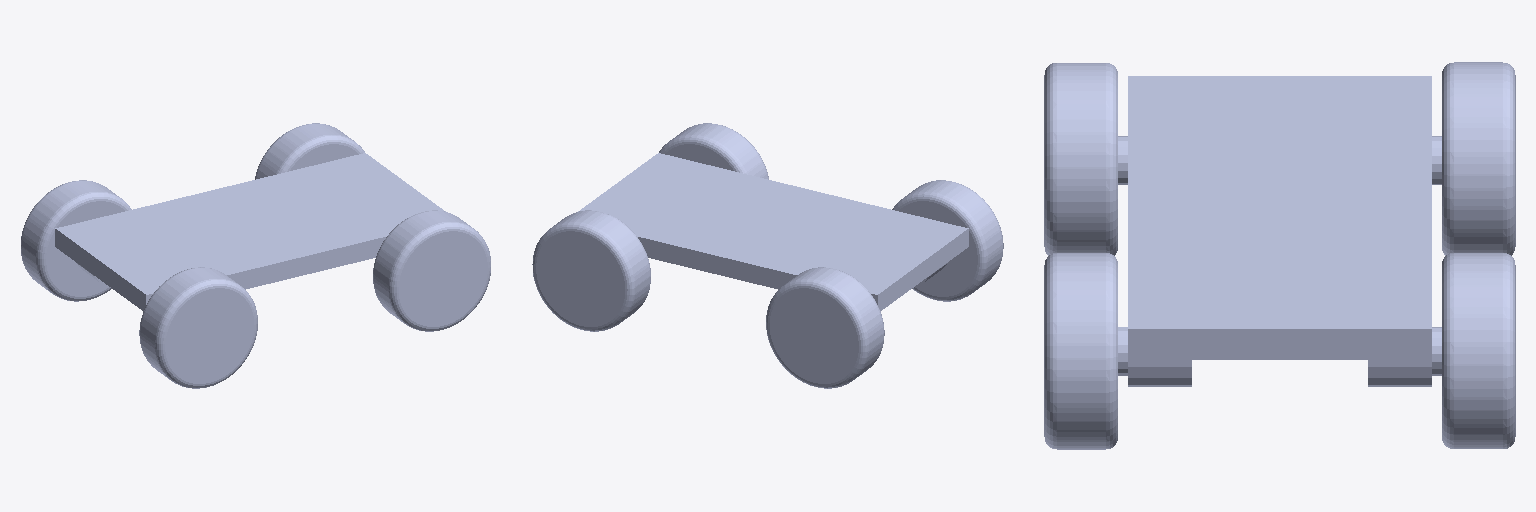
The robot description file, URDF, robot "urdfbotrail2":
<?xml version="1.0" encoding="utf-8"?>
<!-- This URDF was automatically created by SolidWorks to URDF Exporter! Originally created by [author] ([email redacted]) 
     Commit Version: 1.6.0-1-g15f4949  Build Version: 1.6.7594.29634
     For more information, please see http://wiki.ros.org/sw_urdf_exporter -->
<robot
  name="urdfbotrail2">
  <link
    name="chassis">
    <inertial>
      <origin
        xyz="0 -5.20417042793042E-18 -0.00417208943994848"
        rpy="0 0 0" />
      <mass
        value="0.0562300182158082" />
      <inertia
        ixx="1.95794362257048E-05"
        ixy="-5.16987882845642E-21"
        ixz="8.56024269347007E-22"
        iyy="7.30834374312507E-05"
        iyz="-5.43225256246523E-22"
        izz="9.14128498637348E-05" />
    </inertial>
    <visual>
      <origin
        xyz="0 0 0"
        rpy="0 0 0" />
      <geometry>
        <mesh
          filename="package://urdfbotrail2/meshes/chassis.STL" />
      </geometry>
      <material
        name="">
        <color
          rgba="0.792156862745098 0.819607843137255 0.933333333333333 1" />
      </material>
    </visual>
    <collision>
      <origin
        xyz="0 0 0"
        rpy="0 0 0" />
      <geometry>
        <mesh
          filename="package://urdfbotrail2/meshes/chassis.STL" />
      </geometry>
    </collision>
  </link>
  <link
    name="wheel1">
    <inertial>
      <origin
        xyz="3.4694E-18 -0.0073381 -3.4694E-18"
        rpy="0 0 0" />
      <mass
        value="0.0197" />
      <inertia
        ixx="2.4392E-06"
        ixy="3.6561E-23"
        ixz="2.8034E-39"
        iyy="3.6606E-06"
        iyz="3.5573E-39"
        izz="2.4392E-06" />
    </inertial>
    <visual>
      <origin
        xyz="0 0 0"
        rpy="0 0 0" />
      <geometry>
        <mesh
          filename="package://urdfbotrail2/meshes/wheel1.STL" />
      </geometry>
      <material
        name="">
        <color
          rgba="0.79216 0.81961 0.93333 1" />
      </material>
    </visual>
    <collision>
      <origin
        xyz="0 0 0"
        rpy="0 0 0" />
      <geometry>
        <mesh
          filename="package://urdfbotrail2/meshes/wheel1.STL" />
      </geometry>
    </collision>
  </link>
  <joint
    name="joint1"
    type="continuous">
    <origin
      xyz="-0.045742 -0.032132 -0.012"
      rpy="0 0 0" />
    <parent
      link="chassis" />
    <child
      link="wheel1" />
    <axis
      xyz="0 1 0" />
    <limit
      lower="0"
      upper="0"
      effort="0"
      velocity="0" />
  </joint>
  <link
    name="wheel2">
    <inertial>
      <origin
        xyz="1.3878E-17 -0.0073381 -3.4694E-18"
        rpy="0 0 0" />
      <mass
        value="0.0197" />
      <inertia
        ixx="2.4392E-06"
        ixy="2.5033E-23"
        ixz="2.8034E-39"
        iyy="3.6606E-06"
        iyz="3.5573E-39"
        izz="2.4392E-06" />
    </inertial>
    <visual>
      <origin
        xyz="0 0 0"
        rpy="0 0 0" />
      <geometry>
        <mesh
          filename="package://urdfbotrail2/meshes/wheel2.STL" />
      </geometry>
      <material
        name="">
        <color
          rgba="0.79216 0.81961 0.93333 1" />
      </material>
    </visual>
    <collision>
      <origin
        xyz="0 0 0"
        rpy="0 0 0" />
      <geometry>
        <mesh
          filename="package://urdfbotrail2/meshes/wheel2.STL" />
      </geometry>
    </collision>
  </link>
  <joint
    name="joint2"
    type="continuous">
    <origin
      xyz="0.045742 -0.032132 -0.012"
      rpy="0 0 0" />
    <parent
      link="chassis" />
    <child
      link="wheel2" />
    <axis
      xyz="0 1 0" />
    <limit
      lower="0"
      upper="0"
      effort="0"
      velocity="0" />
  </joint>
  <link
    name="wheel3">
    <inertial>
      <origin
        xyz="2.7756E-17 0.0073381 -1.0408E-17"
        rpy="0 0 0" />
      <mass
        value="0.0197" />
      <inertia
        ixx="2.4392E-06"
        ixy="6.4748E-24"
        ixz="1.7485E-22"
        iyy="3.6606E-06"
        iyz="-4.7383E-23"
        izz="2.4392E-06" />
    </inertial>
    <visual>
      <origin
        xyz="0 0 0"
        rpy="0 0 0" />
      <geometry>
        <mesh
          filename="package://urdfbotrail2/meshes/wheel3.STL" />
      </geometry>
      <material
        name="">
        <color
          rgba="0.79216 0.81961 0.93333 1" />
      </material>
    </visual>
    <collision>
      <origin
        xyz="0 0 0"
        rpy="0 0 0" />
      <geometry>
        <mesh
          filename="package://urdfbotrail2/meshes/wheel3.STL" />
      </geometry>
    </collision>
  </link>
  <joint
    name="joint3"
    type="continuous">
    <origin
      xyz="0.045742 0.032132 -0.012"
      rpy="0 0 0" />
    <parent
      link="chassis" />
    <child
      link="wheel3" />
    <axis
      xyz="0 1 0" />
    <limit
      lower="0"
      upper="0"
      effort="0"
      velocity="0" />
  </joint>
  <link
    name="wheel4">
    <inertial>
      <origin
        xyz="0 0.021603 -3.4694E-18"
        rpy="0 0 0" />
      <mass
        value="0.0197" />
      <inertia
        ixx="2.4392E-06"
        ixy="9.7954E-23"
        ixz="1.7164E-23"
        iyy="3.6606E-06"
        iyz="-2.5217E-23"
        izz="2.4392E-06" />
    </inertial>
    <visual>
      <origin
        xyz="0 0 0"
        rpy="0 0 0" />
      <geometry>
        <mesh
          filename="package://urdfbotrail2/meshes/wheel4.STL" />
      </geometry>
      <material
        name="">
        <color
          rgba="0.79216 0.81961 0.93333 1" />
      </material>
    </visual>
    <collision>
      <origin
        xyz="0 0 0"
        rpy="0 0 0" />
      <geometry>
        <mesh
          filename="package://urdfbotrail2/meshes/wheel4.STL" />
      </geometry>
    </collision>
  </link>
  <joint
    name="joint4"
    type="continuous">
    <origin
      xyz="-0.045742 0.017868 -0.012"
      rpy="0 0 0" />
    <parent
      link="chassis" />
    <child
      link="wheel4" />
    <axis
      xyz="0 1 0" />
    <limit
      lower="0"
      upper="0"
      effort="0"
      velocity="0" />
  </joint>
</robot>

--- What the picture shows (computed from the rendered views, not written in the file) ---
The picture shows the robot from 3 angles, left to right: view 1: azimuth 30°, elevation 25°; view 2: azimuth 150°, elevation 25°; view 3: azimuth 270°, elevation 25°; orthographic projection.
Robot: urdfbotrail2 — 5 links, 4 joints (4 continuous); root link chassis; default pose: all joints at 0.
Links seen in each view (by area): view 1: chassis, wheel1, wheel2, wheel4, wheel3; view 2: chassis, wheel4, wheel3, wheel1, wheel2; view 3: chassis, wheel2, wheel3, wheel4, wheel1.
Boxes of the visible links, x1,y1,x2,y2 form: chassis: [55, 153, 445, 311]; wheel1: [139, 267, 257, 388]; wheel2: [373, 210, 490, 331]; wheel4: [21, 180, 131, 301]; wheel3: [255, 123, 364, 179]; chassis: [578, 153, 968, 310]; wheel4: [766, 267, 884, 388]; wheel3: [532, 210, 650, 331]; wheel1: [892, 180, 1003, 301]; wheel2: [659, 123, 768, 179]; chassis: [1128, 76, 1431, 386]; wheel2: [1044, 253, 1127, 449]; wheel3: [1432, 253, 1515, 448]; wheel4: [1432, 62, 1515, 255]; wheel1: [1044, 63, 1127, 255].
Size in the robot's own frame: 0.1315 by 0.0957 by 0.04 metres.
5 mesh visuals loaded from 5 distinct referenced files (5 binary STL).